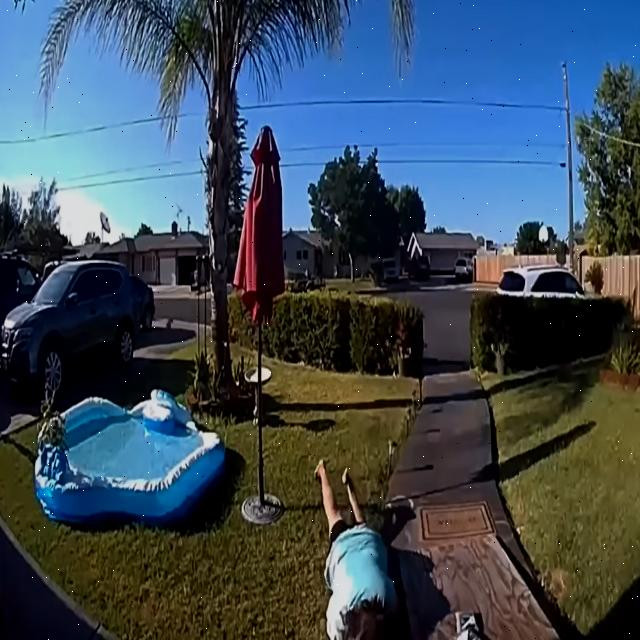fallen: (315, 460, 397, 639)
